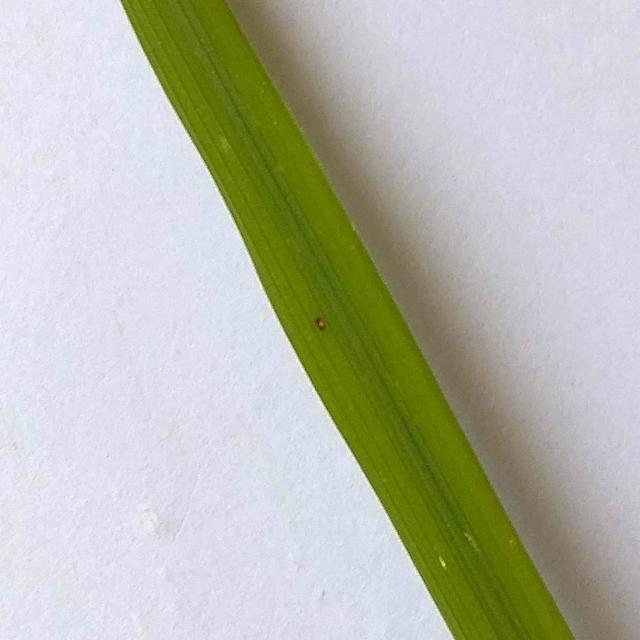Blast: (310, 311, 329, 331)
